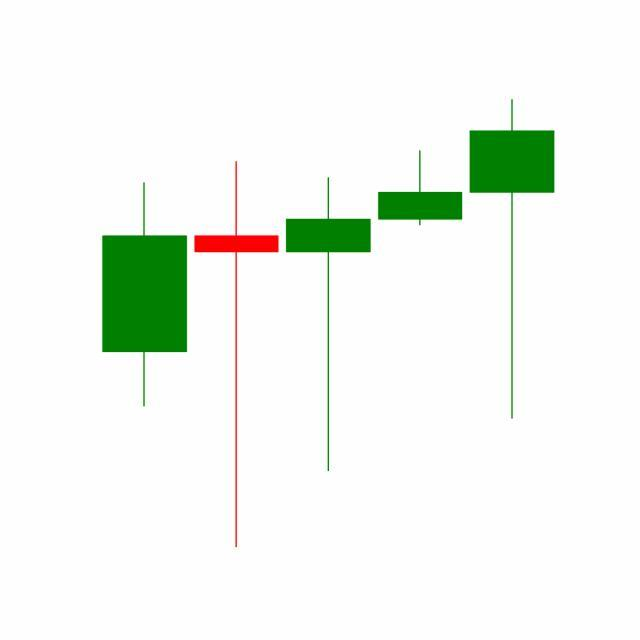Hammer: (466, 96, 559, 423)
